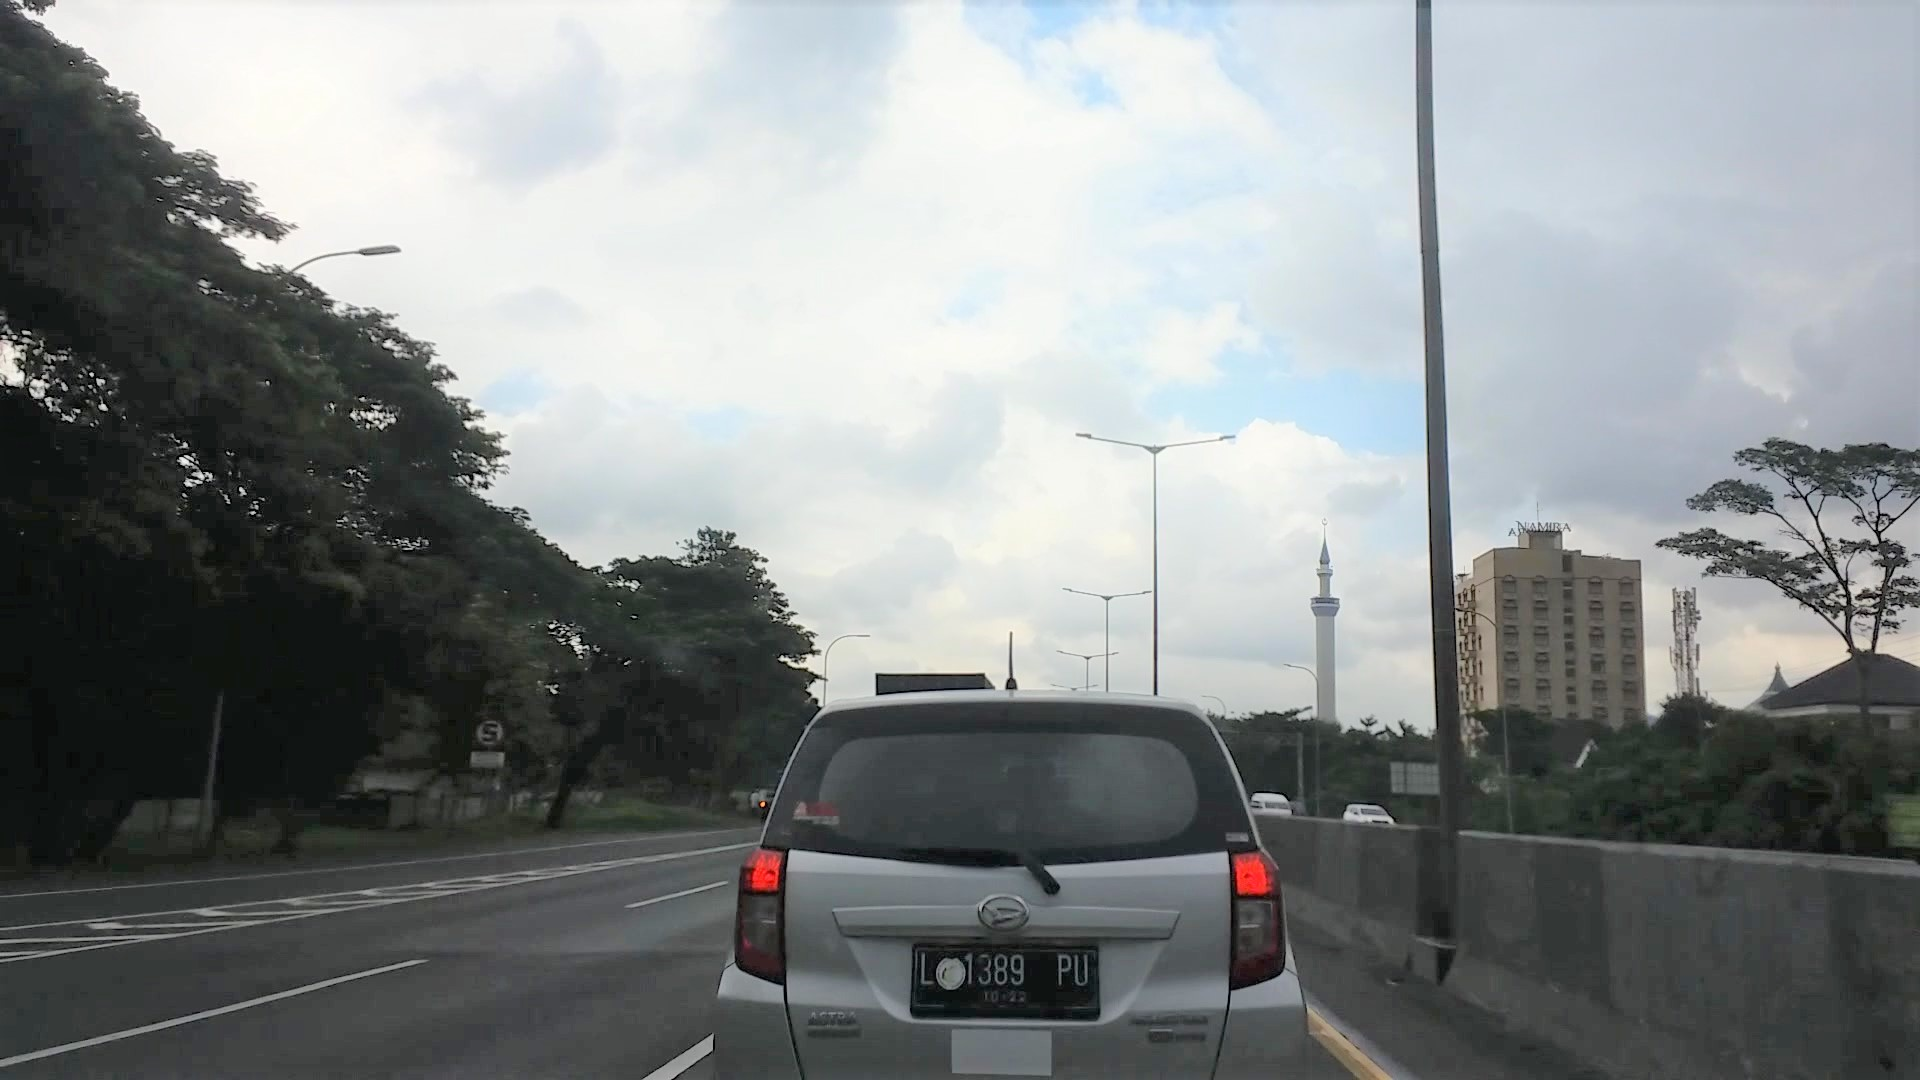plate_positive: (910, 942, 1101, 1021)
